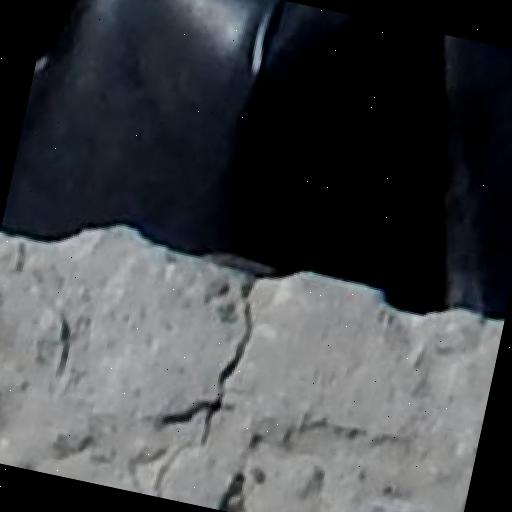spalling: (133, 279, 267, 495), (35, 312, 87, 391)
